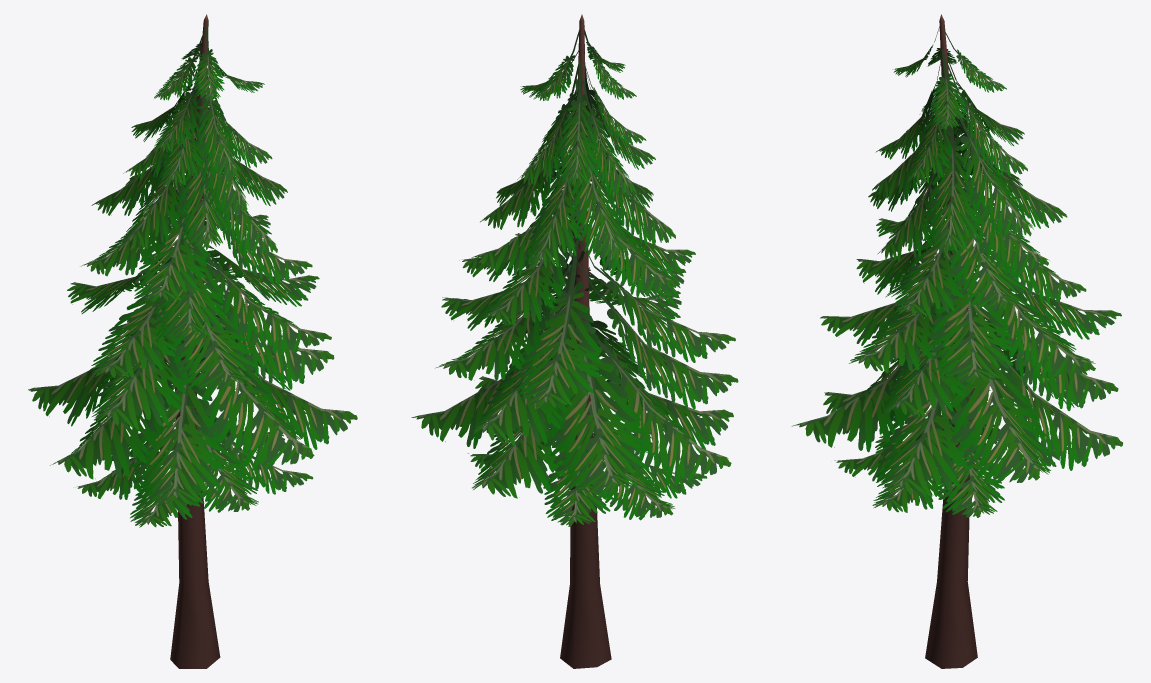
The model's file is Pine_Tree_1C.fbx.
The picture shows the model from 3 angles, left to right: view 1: azimuth 30°, elevation 25°; view 2: azimuth 150°, elevation 25°; view 3: azimuth 270°, elevation 25°; orthographic projection.
Parts seen in each view (by area): view 1: Pine_Tree_1C; view 2: Pine_Tree_1C; view 3: Pine_Tree_1C.
Boxes of the visible parts, x1=… form: Pine_Tree_1C: x1=28, y1=14, x2=357, y2=668; Pine_Tree_1C: x1=411, y1=14, x2=738, y2=668; Pine_Tree_1C: x1=791, y1=14, x2=1122, y2=668.
Size of the model in its own units: 228 by 465 by 232.
